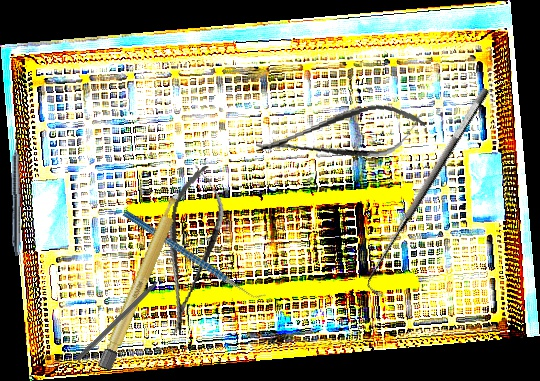Chopper: (121, 173, 269, 336), (75, 269, 176, 367)
Handpiece: (10, 133, 24, 256)
Hook Surgical: (354, 84, 506, 302)
Micro Scissor: (148, 161, 233, 339), (252, 97, 429, 173)
Scalpel Handle: (96, 187, 187, 374)
